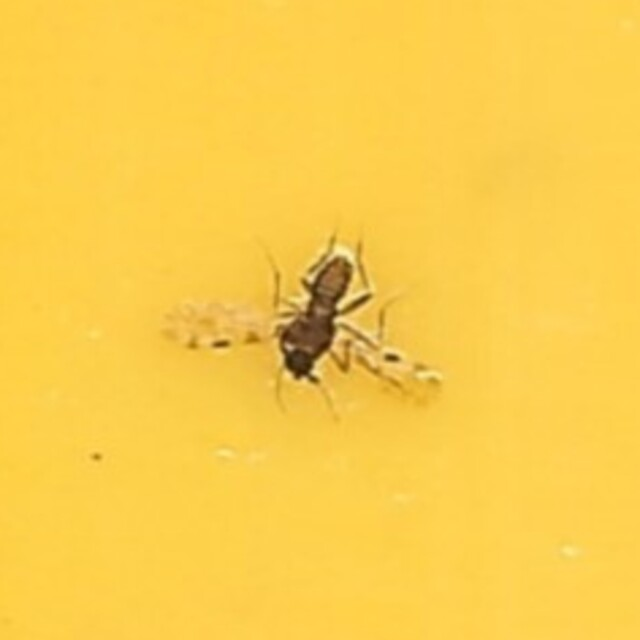Nematocera: (271, 239, 369, 401)
